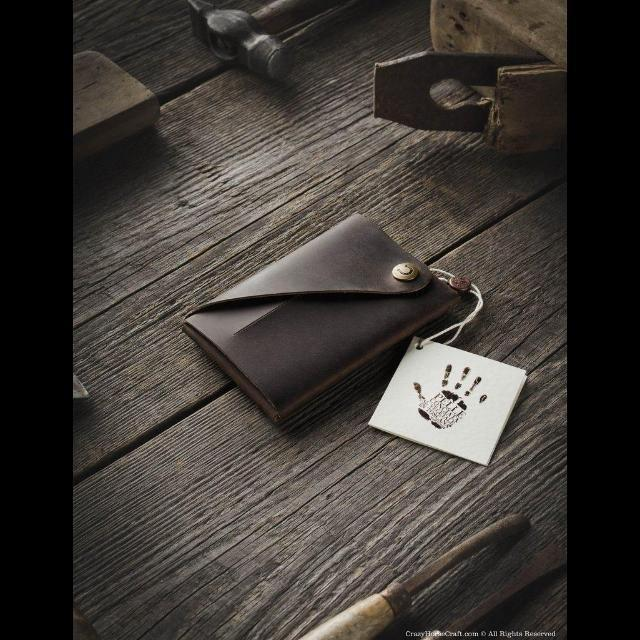Wallet: (178, 202, 467, 440)
